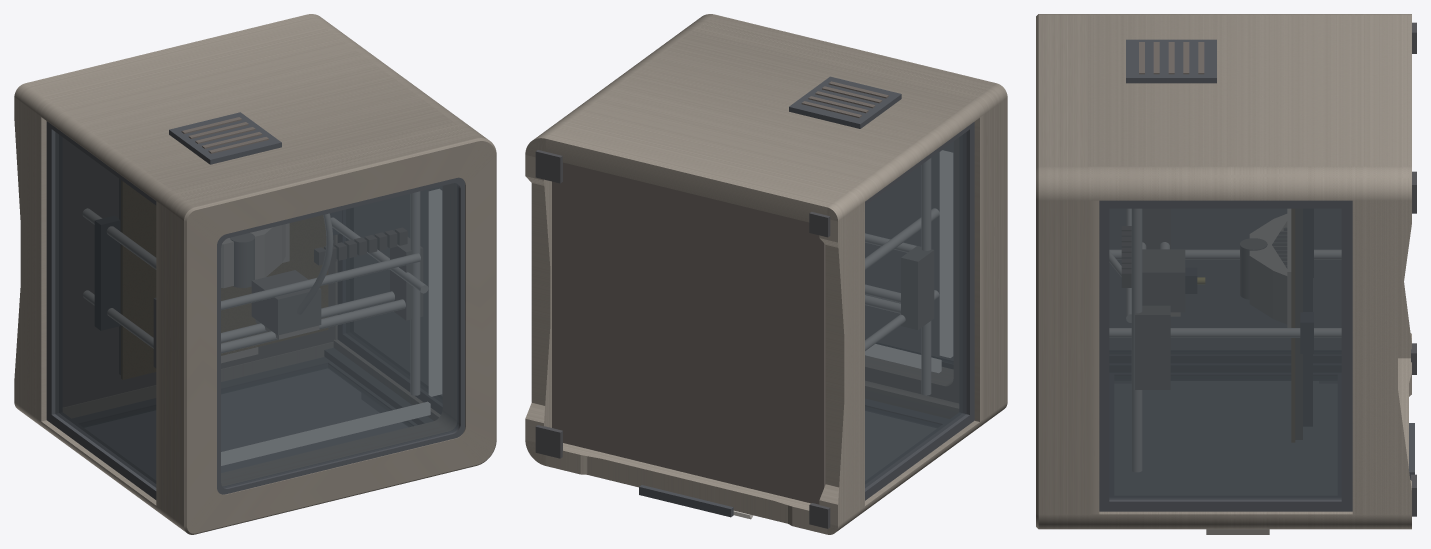
Rendered from deltrol_p2s_true3d_candidate_v2.glb.
3 renders of one model, left to right at view 1: azimuth 30°, elevation 25°; view 2: azimuth 150°, elevation 25°; view 3: azimuth 270°, elevation 25°, orthographic. The views are drawn at different scales.
Parts seen in each view (by area): view 1: top_roof_glass, unibody_top_frame, unibody_rear_wall, left_glass_window, interior_floor_tray, front_glass_door, unibody_left_skirt, build_plate, top_rim_outer, right_glass_window, left_gasket_bot, unibody_corner_1 (+26 smaller); view 2: chassis_underpan, unibody_rear_wall, left_glass_window, unibody_top_frame, unibody_left_skirt, unibody_front_chin_skirt, top_roof_glass, unibody_right_skirt, left_gasket_top, unibody_left_top_beam, unibody_corner_1, led_bar_left (+14 smaller); view 3: right_glass_window, unibody_rear_wall, unibody_top_frame, front_glass_door, unibody_right_skirt, left_glass_window, unibody_corner_0, unibody_corner_3, unibody_right_top_beam, right_gasket_f, right_gasket_bot, right_gasket_top (+21 smaller).
Part boxes in pixels (left/top/right/bottom): top_roof_glass: left=221, top=183, right=459, bottom=487; unibody_top_frame: left=161, top=122, right=496, bottom=534; unibody_rear_wall: left=25, top=14, right=453, bottom=190; left_glass_window: left=55, top=132, right=156, bottom=487; interior_floor_tray: left=63, top=138, right=334, bottom=406; front_glass_door: left=83, top=365, right=408, bottom=479; unibody_left_skirt: left=14, top=97, right=46, bottom=421; build_plate: left=121, top=180, right=327, bottom=379; top_rim_outer: left=217, top=177, right=465, bottom=494; right_glass_window: left=350, top=186, right=441, bottom=398; left_gasket_bot: left=46, top=122, right=61, bottom=423; unibody_corner_1: left=14, top=83, right=171, bottom=204; chassis_underpan: left=552, top=162, right=825, bottom=504; unibody_rear_wall: left=545, top=31, right=973, bottom=222; left_glass_window: left=865, top=132, right=966, bottom=487; unibody_top_frame: left=681, top=14, right=1007, bottom=424; unibody_left_skirt: left=819, top=202, right=864, bottom=525; unibody_front_chin_skirt: left=545, top=443, right=827, bottom=534; top_roof_glass: left=865, top=142, right=952, bottom=361; unibody_right_skirt: left=525, top=155, right=551, bottom=442; left_gasket_top: left=960, top=123, right=974, bottom=423; unibody_left_top_beam: left=974, top=114, right=985, bottom=421; unibody_corner_1: left=827, top=99, right=985, bottom=221; led_bar_left: left=940, top=150, right=952, bottom=357; right_glass_window: left=1109, top=208, right=1341, bottom=499; unibody_rear_wall: left=1087, top=15, right=1411, bottom=166; unibody_top_frame: left=1036, top=14, right=1087, bottom=529; front_glass_door: left=1115, top=378, right=1336, bottom=494; unibody_right_skirt: left=1352, top=200, right=1411, bottom=514; left_glass_window: left=1110, top=209, right=1340, bottom=351; unibody_corner_0: left=1087, top=166, right=1411, bottom=200; unibody_corner_3: left=1087, top=511, right=1411, bottom=529; unibody_right_top_beam: left=1087, top=200, right=1099, bottom=514; right_gasket_f: left=1099, top=496, right=1352, bottom=511; right_gasket_bot: left=1341, top=200, right=1352, bottom=511; right_gasket_top: left=1099, top=200, right=1109, bottom=511.
Size of the model in its own units: 0.402 by 0.428 by 0.385.
Materials: 16 (3 with a texture image).
